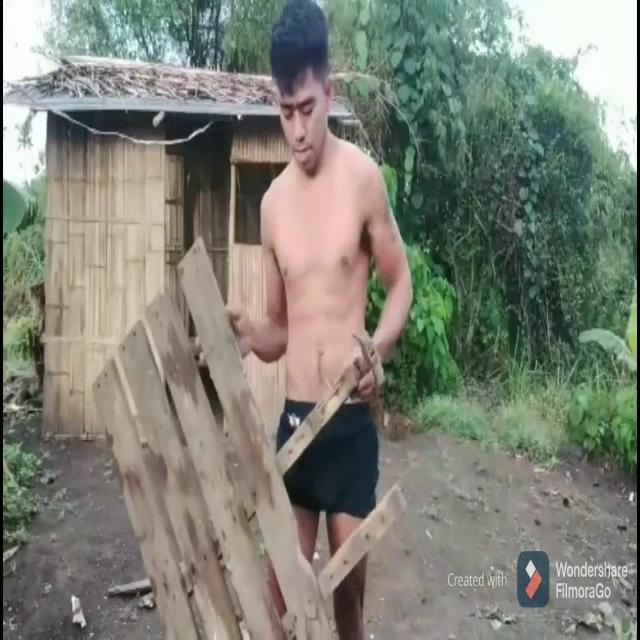hammer: (354, 330, 385, 388)
